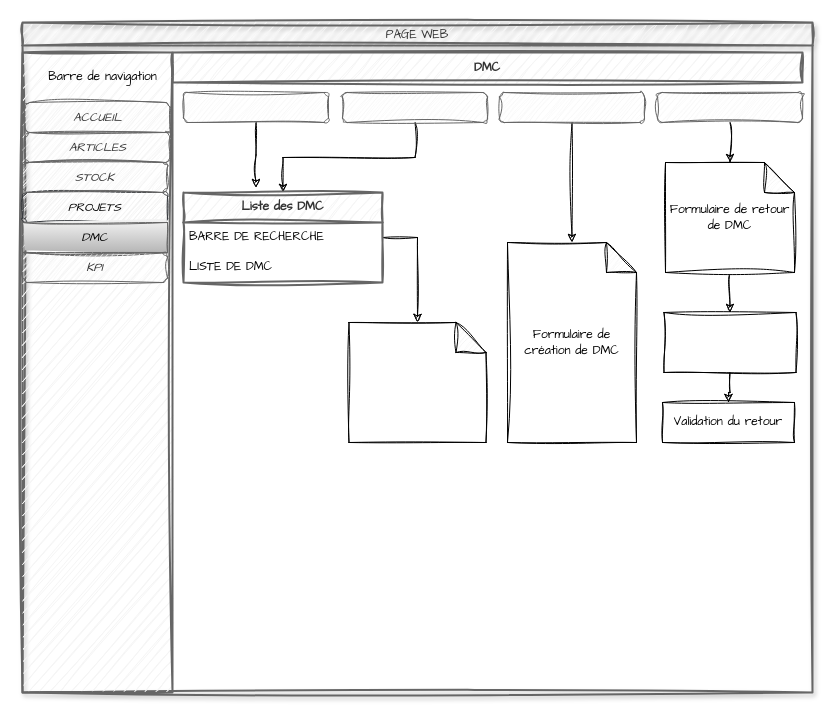
Image size: 836x717. Some labels were removed from this diagram. The centre of each missing label's shape, as x and y in pixels:
"Consulter" belongs at [255,107].
"Créer une DMC" belongs at [571,107].
"Formulaire de modification de DMC" belongs at [417,382].
"Inventaire de retour chantier" belongs at [729,342].
"Modifier une DMC" belongs at [415,107].
"Retourner une DMC" belongs at [729,107].
